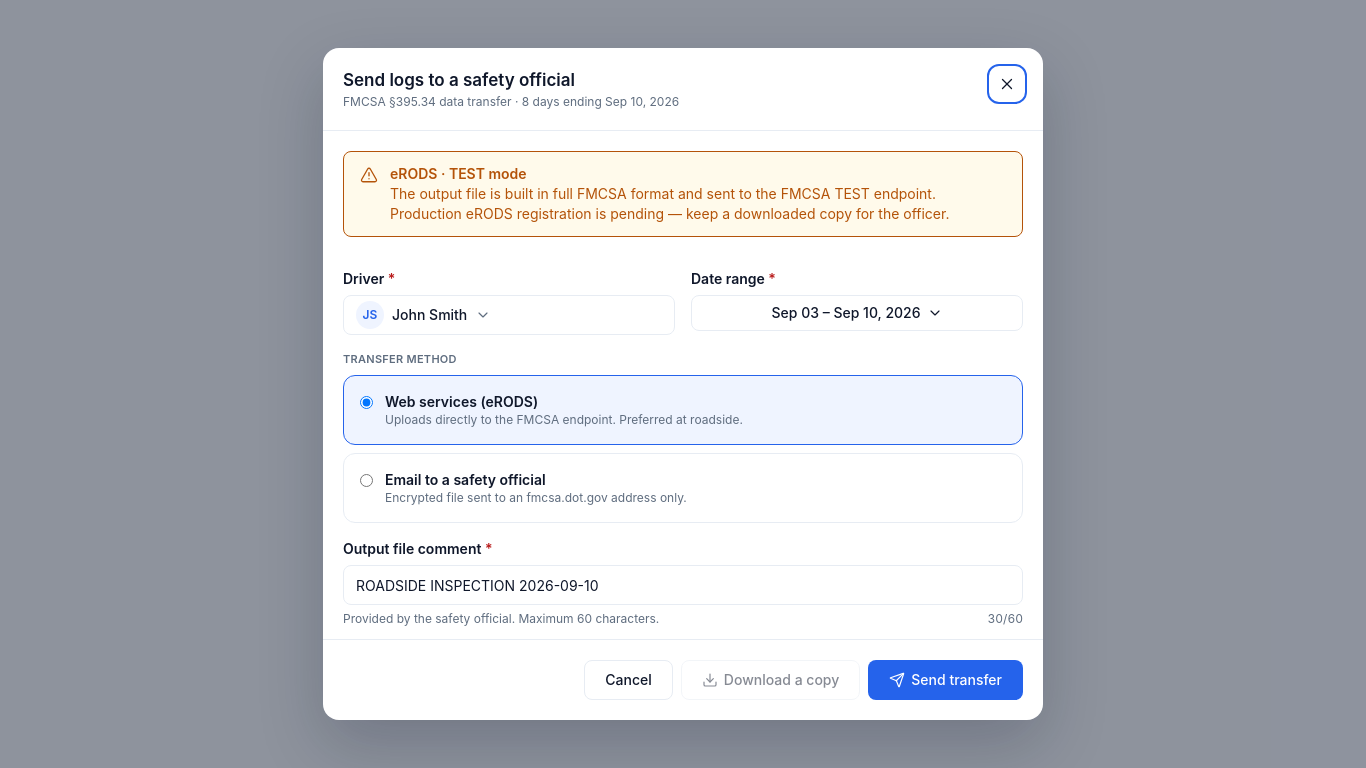
it: 11.14 Send logs to a safety official › shows the UNCERTIFIED_LOGS refusal verbatim
Click the button "Send transfer": (946, 680) [868, 660, 1023, 700]
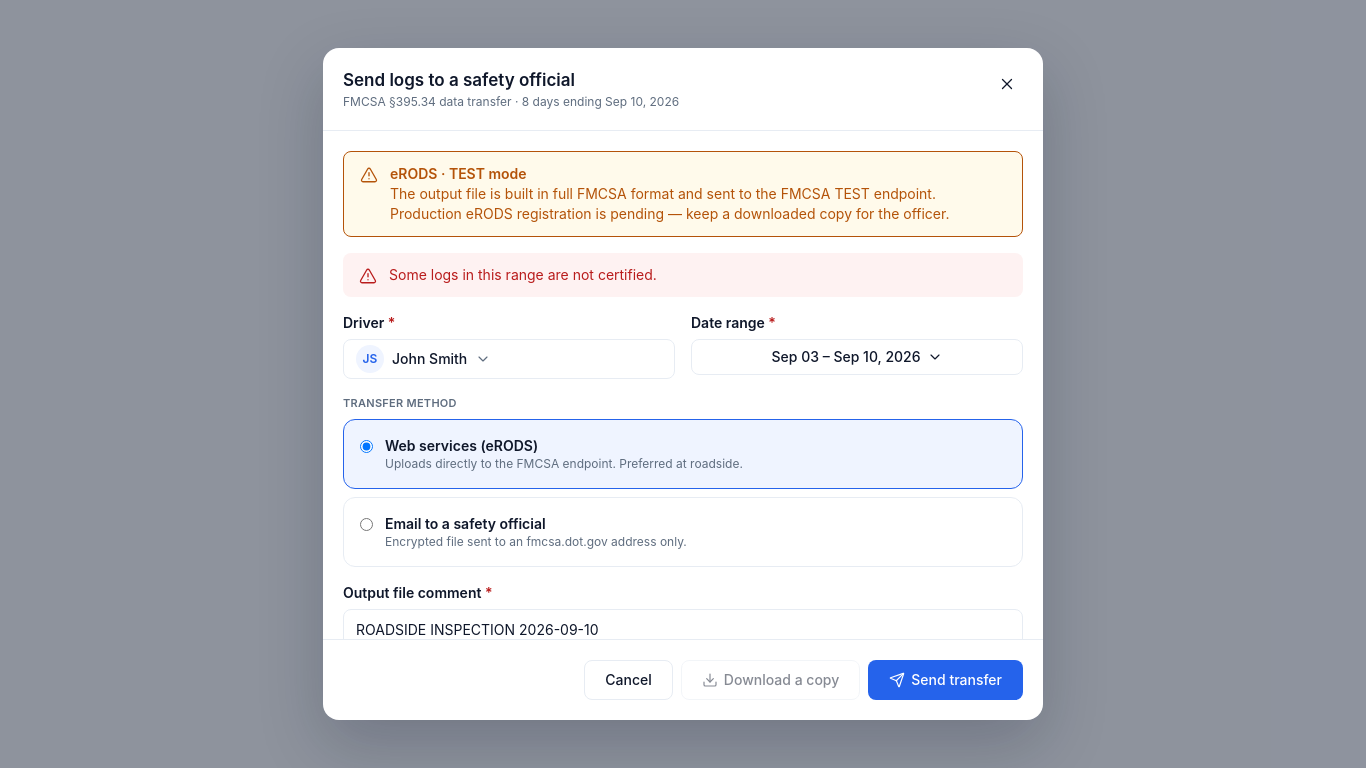
Expected: the text "Some logs in this range are not certified." is shown, [389, 266, 657, 283]
